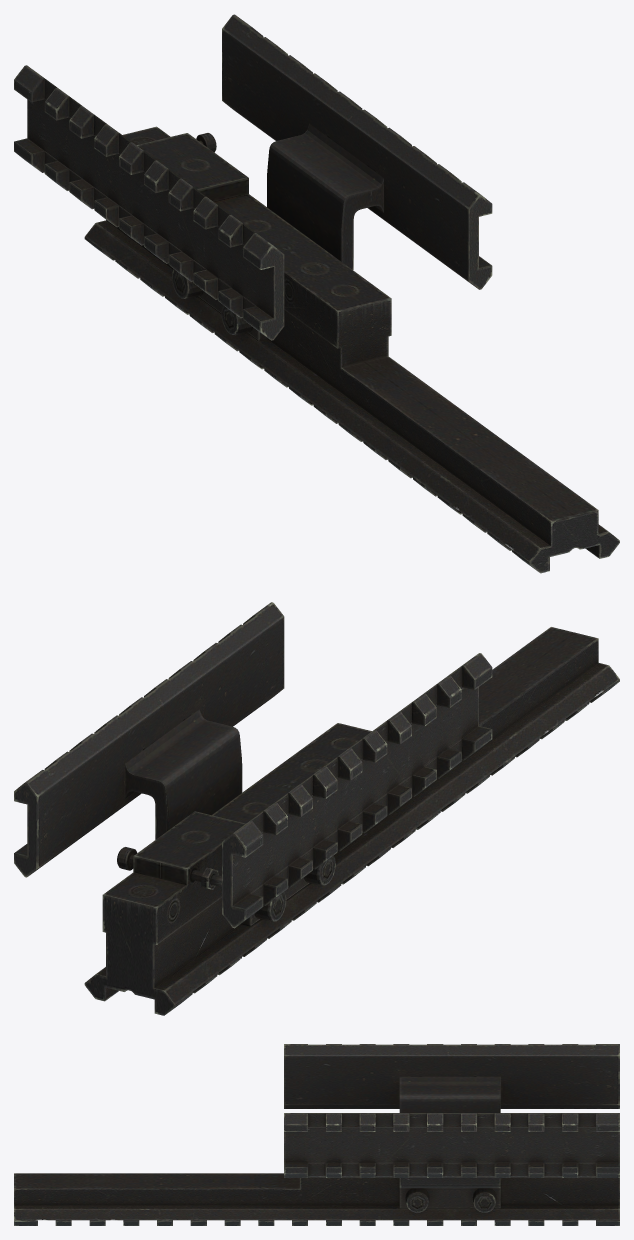
The picture shows the model from 3 angles, top to bottom: view 1: azimuth 30°, elevation 25°; view 2: azimuth 150°, elevation 25°; view 3: azimuth 270°, elevation 25°; orthographic projection. The views are drawn at different scales.
Parts seen in each view (by area): view 1: TW_5bbdb811d4351e45020113c7_PZ_Import; view 2: TW_5bbdb811d4351e45020113c7_PZ_Import; view 3: TW_5bbdb811d4351e45020113c7_PZ_Import.
Boxes of the visible parts, x1=… form: TW_5bbdb811d4351e45020113c7_PZ_Import: x1=14, y1=14, x2=619, y2=573; TW_5bbdb811d4351e45020113c7_PZ_Import: x1=14, y1=602, x2=619, y2=1015; TW_5bbdb811d4351e45020113c7_PZ_Import: x1=14, y1=1044, x2=619, y2=1225.
Bounding box in the file's own units: 0.0312 × 0.1038 × 0.0256.
1 material, 1 textured.
